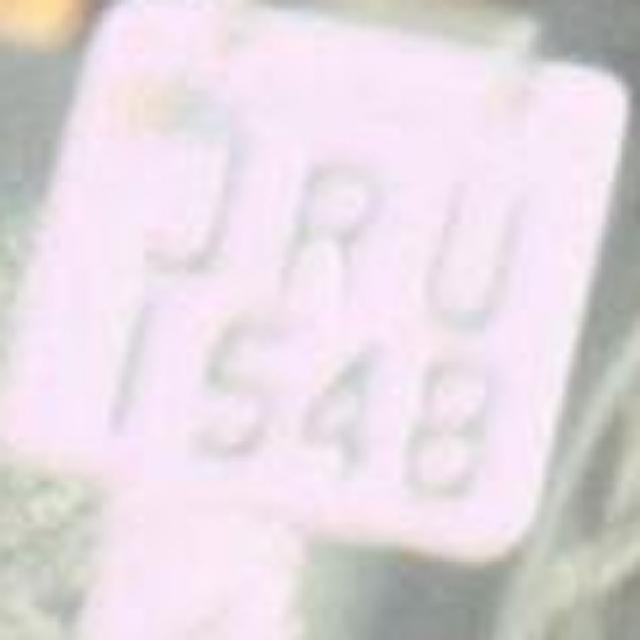2: (140, 452, 300, 640)
5: (175, 292, 300, 488)
8: (385, 320, 520, 528)
J: (116, 104, 272, 311)
R: (256, 120, 404, 325)
